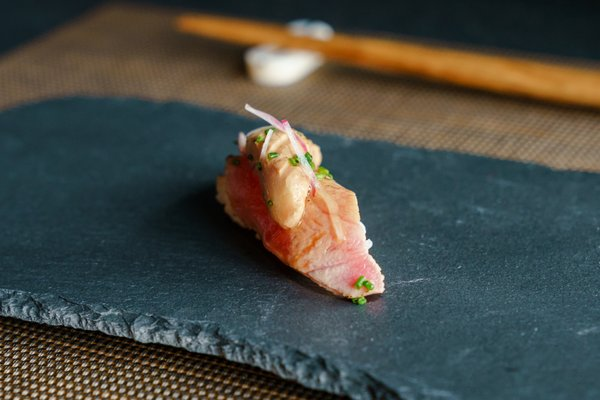burger: (214, 117, 386, 304)
curry: (0, 2, 591, 398)
